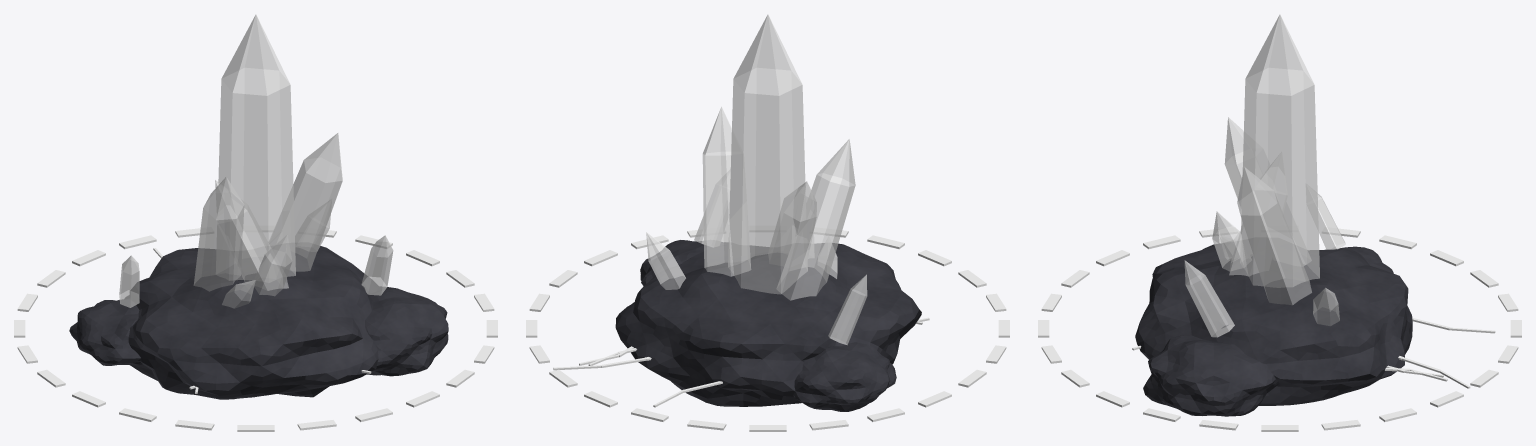
The model's file is node_crystal.fbx.
The picture shows the model from 3 angles, left to right: view 1: azimuth 30°, elevation 25°; view 2: azimuth 150°, elevation 25°; view 3: azimuth 270°, elevation 25°; orthographic projection.
Visible parts, largest first — view 1: Hull, GlowSoft, Glow; view 2: Hull, GlowSoft, Glow; view 3: Hull, GlowSoft, Glow.
Part boxes in pixels (box(x1,y1,x2,y2)): Hull: box(69, 246, 448, 399); GlowSoft: box(119, 14, 393, 308); Glow: box(14, 226, 497, 431); Hull: box(615, 240, 921, 411); GlowSoft: box(646, 14, 867, 345); Glow: box(526, 226, 1009, 431); Hull: box(1135, 243, 1412, 416); GlowSoft: box(1184, 14, 1345, 337); Glow: box(1038, 226, 1521, 431).
Bounding box in the file's own units: 2.56 × 2.13 × 2.56.
